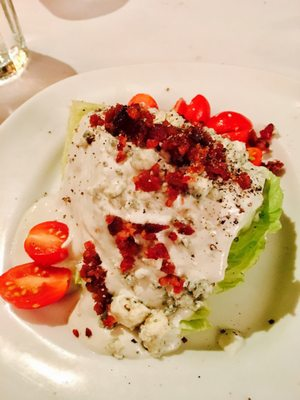burger: (0, 0, 29, 88)
pizza: (37, 0, 131, 21)
